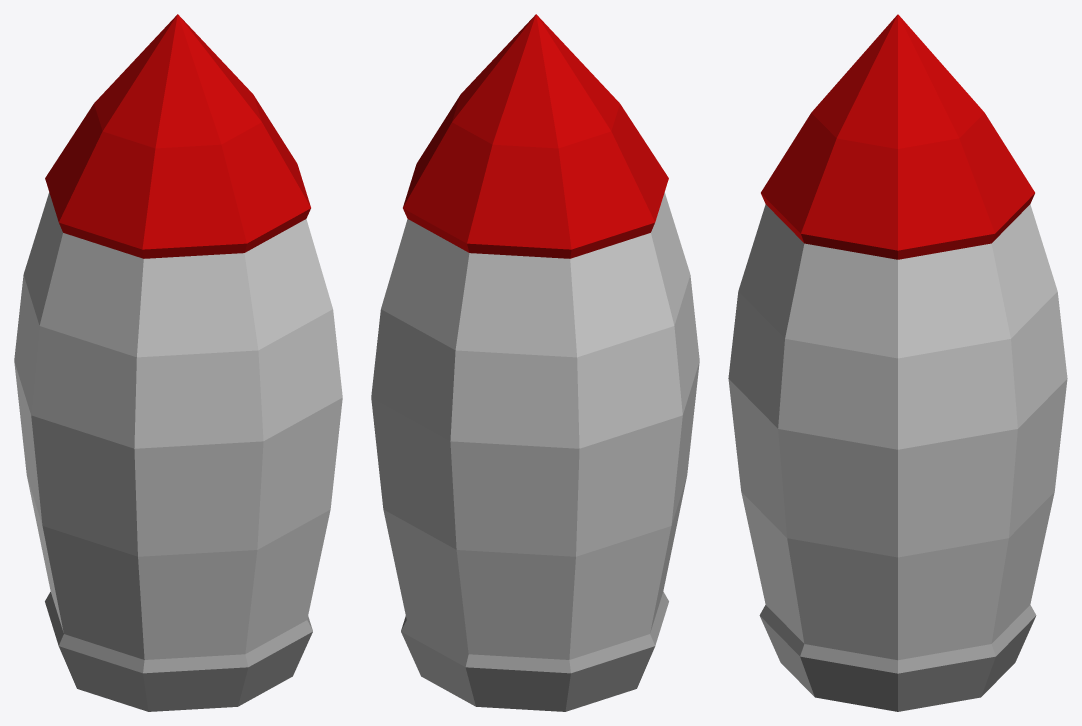
The model's file is jet.fbx.
3 views of the same model, side by side, from view 1: azimuth 30°, elevation 25°; view 2: azimuth 150°, elevation 25°; view 3: azimuth 270°, elevation 25° (orthographic).
Parts seen in each view (by area): view 1: Rocket Ship 01; view 2: Rocket Ship 01; view 3: Rocket Ship 01.
Part boxes in pixels (bbox=[...]): Rocket Ship 01: bbox=[14, 14, 342, 711]; Rocket Ship 01: bbox=[371, 14, 699, 711]; Rocket Ship 01: bbox=[728, 14, 1067, 711].
Size of the model in its own units: 57.33 by 122 by 57.33.
